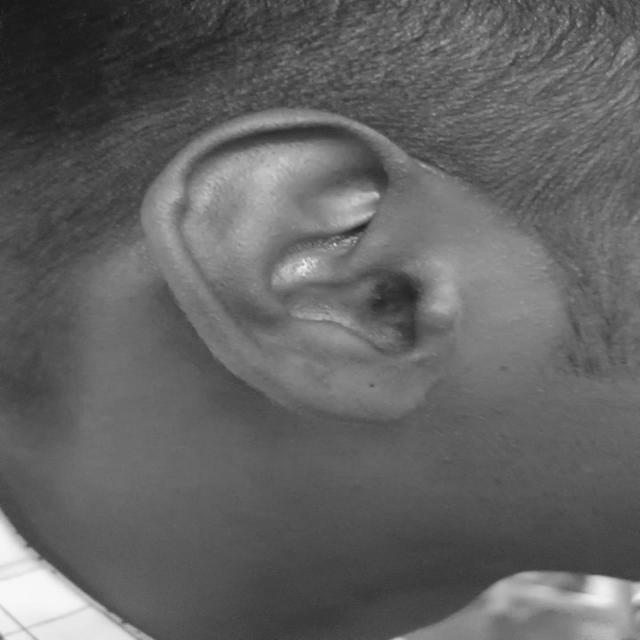ear: (141, 108, 460, 420)
